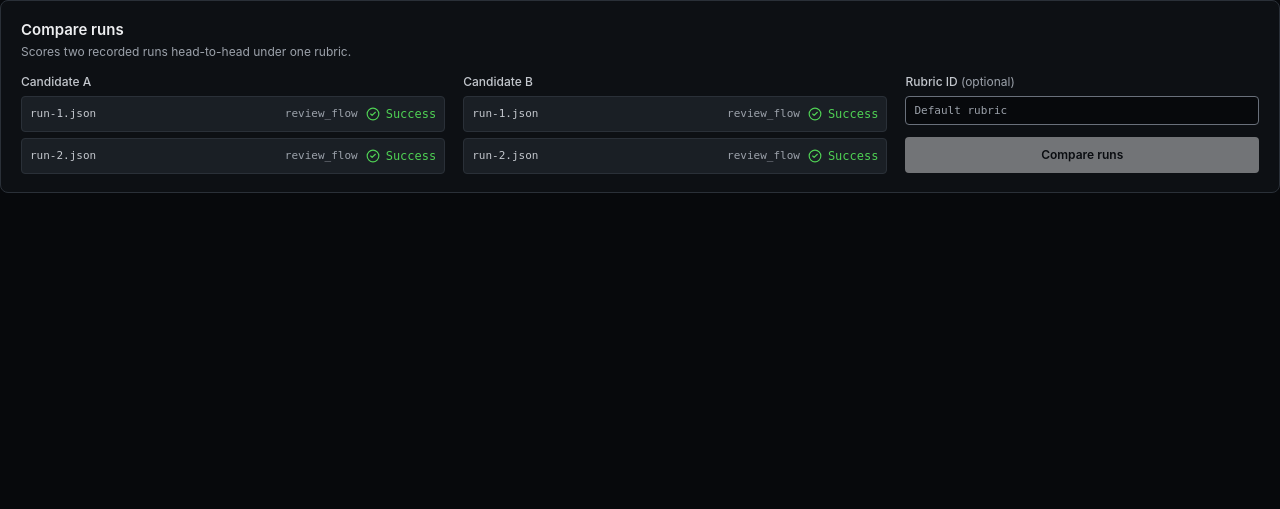
Test: RunComparePanel › renders the comparison result with winner accent and delta table
The image size is (1280, 509).
Type "review_default" into the field with placeholder "Default rubric".
click(1082, 110); type("review_default")  # box left=906, top=96, right=1259, bottom=124
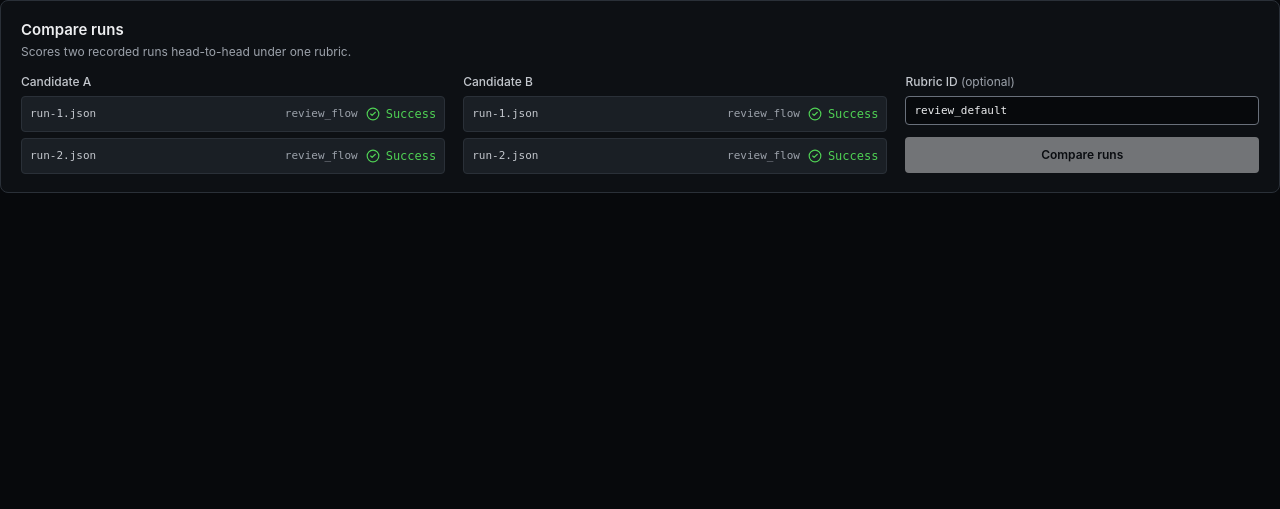
Click the button with aria-label "pick run-1.json for candidate A".
click(63, 114)  # box left=21, top=96, right=445, bottom=132
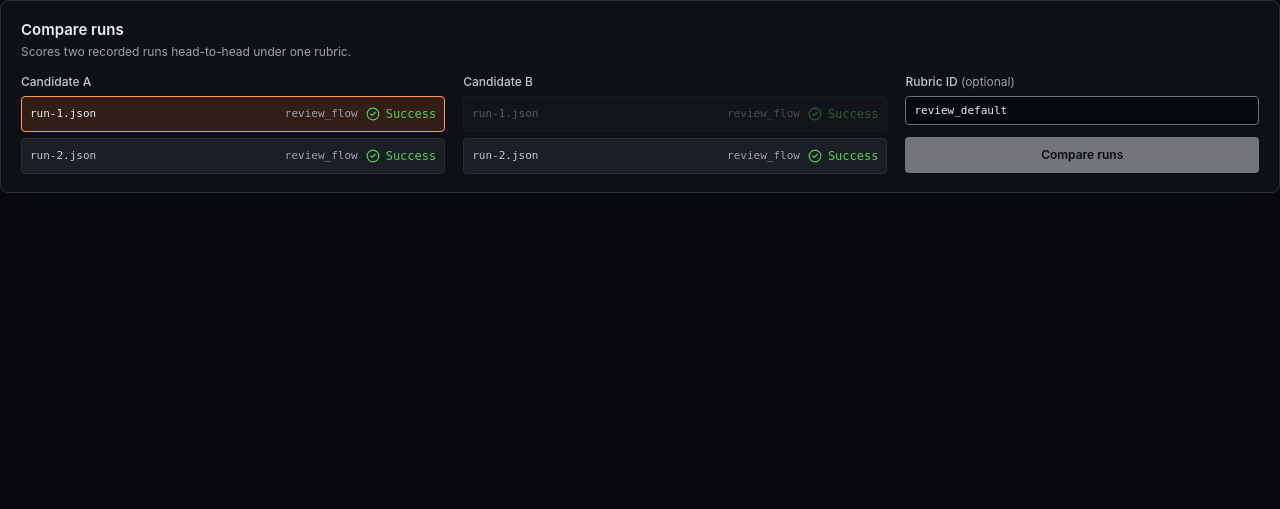
Click the button with aria-label "pick run-2.json for candidate B".
click(505, 156)  # box left=463, top=138, right=887, bottom=174
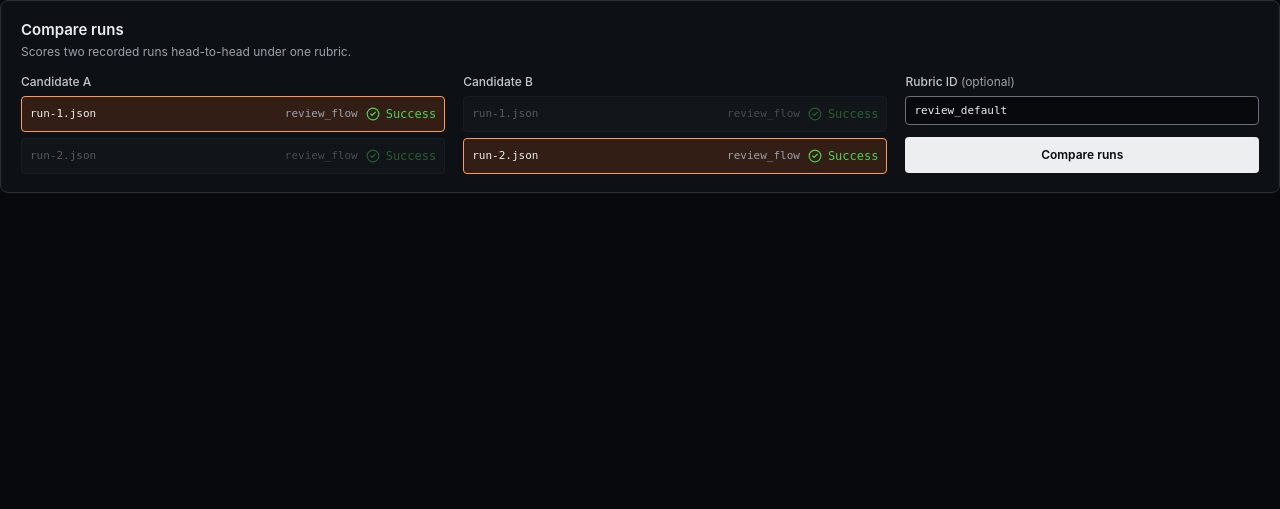
Click the button "Compare runs".
click(1082, 154)  # box left=906, top=136, right=1259, bottom=172
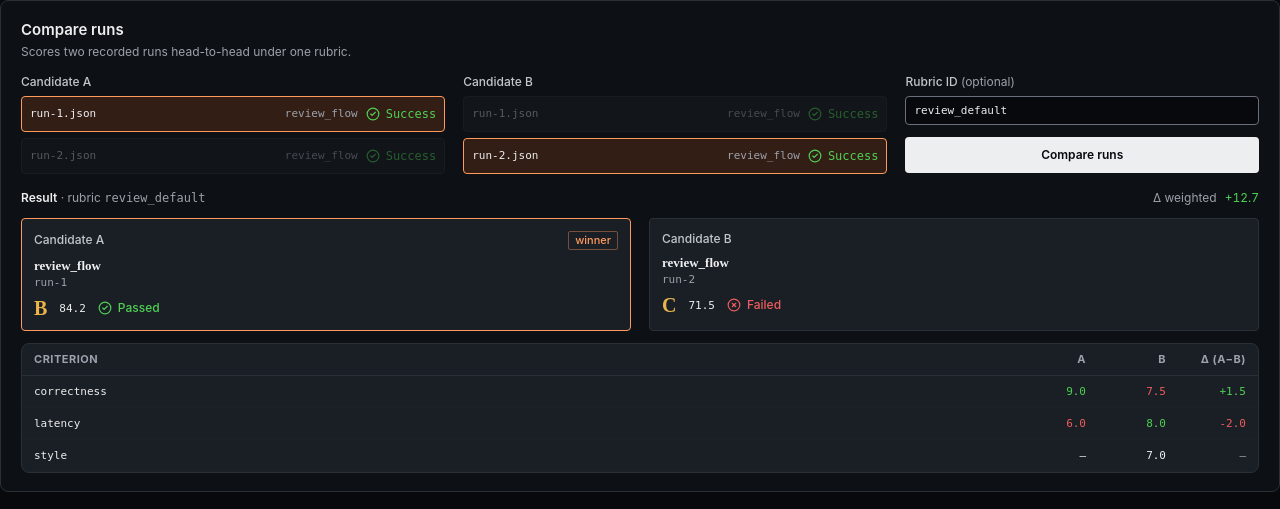
Expected: the element with test id "compare-result" is shown, left=21, top=190, right=1259, bottom=473
Expected: the text "84.2" is shown, left=59, top=300, right=86, bottom=316
Expected: the text "71.5" is shown, left=688, top=298, right=715, bottom=312
